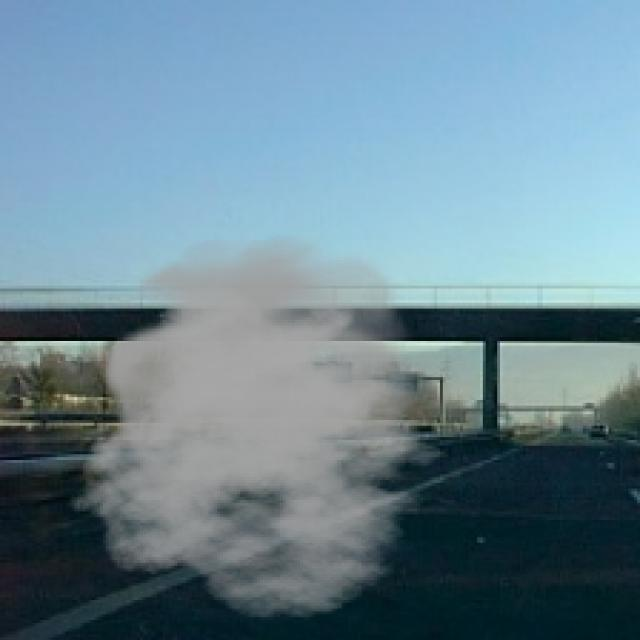smoke: (68, 234, 466, 620)
